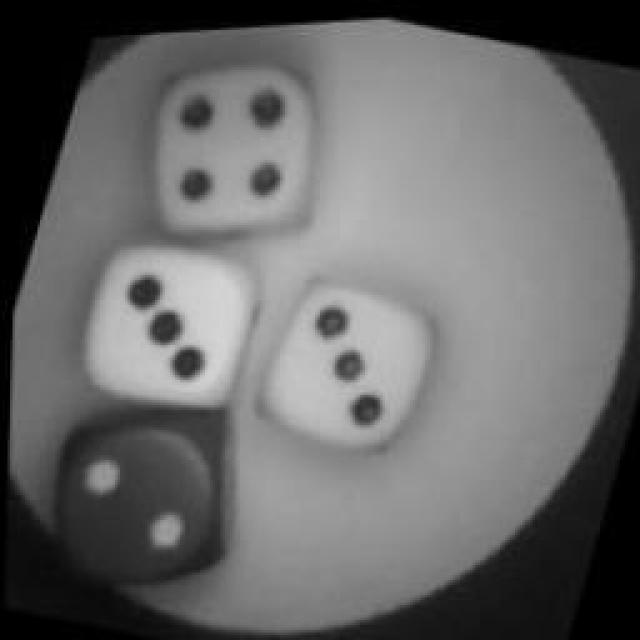dice_2: (22, 382, 258, 616)
dice_3: (60, 210, 280, 435), (239, 250, 449, 470)
dice_4: (118, 30, 350, 255)
